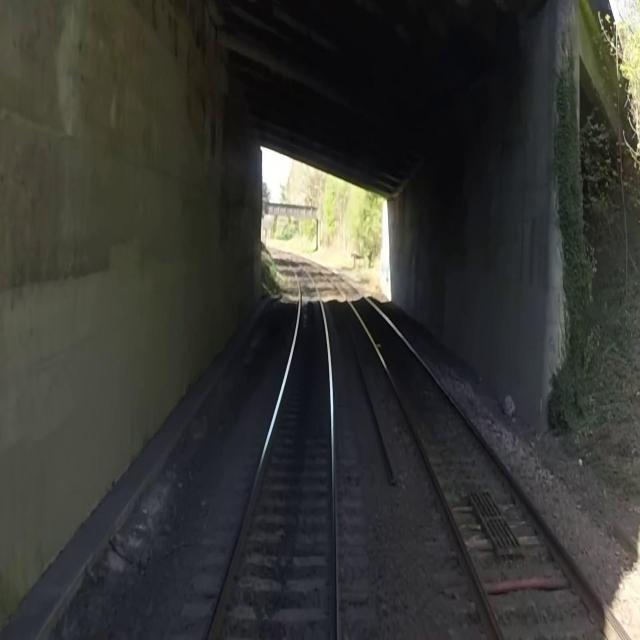rail-track: (306, 260, 624, 639), (210, 254, 332, 639)
